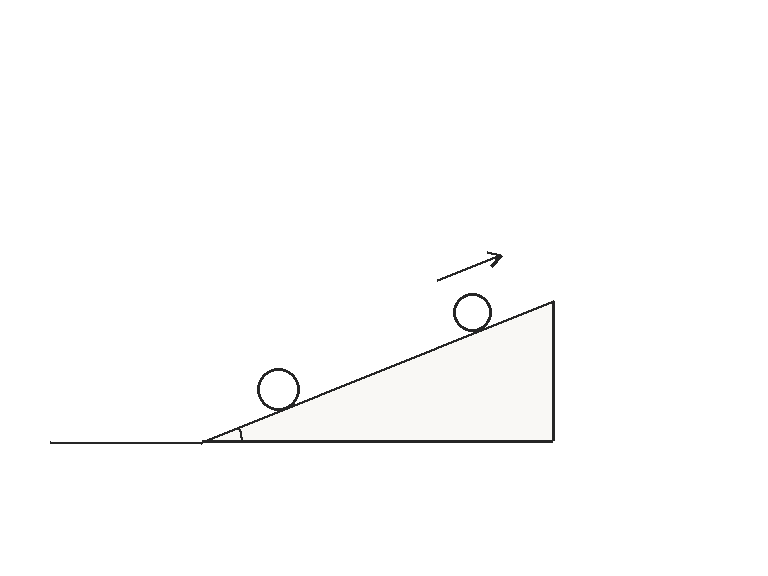ball: (255, 365, 301, 411), (451, 291, 493, 333)
ramp: (200, 298, 554, 444)
